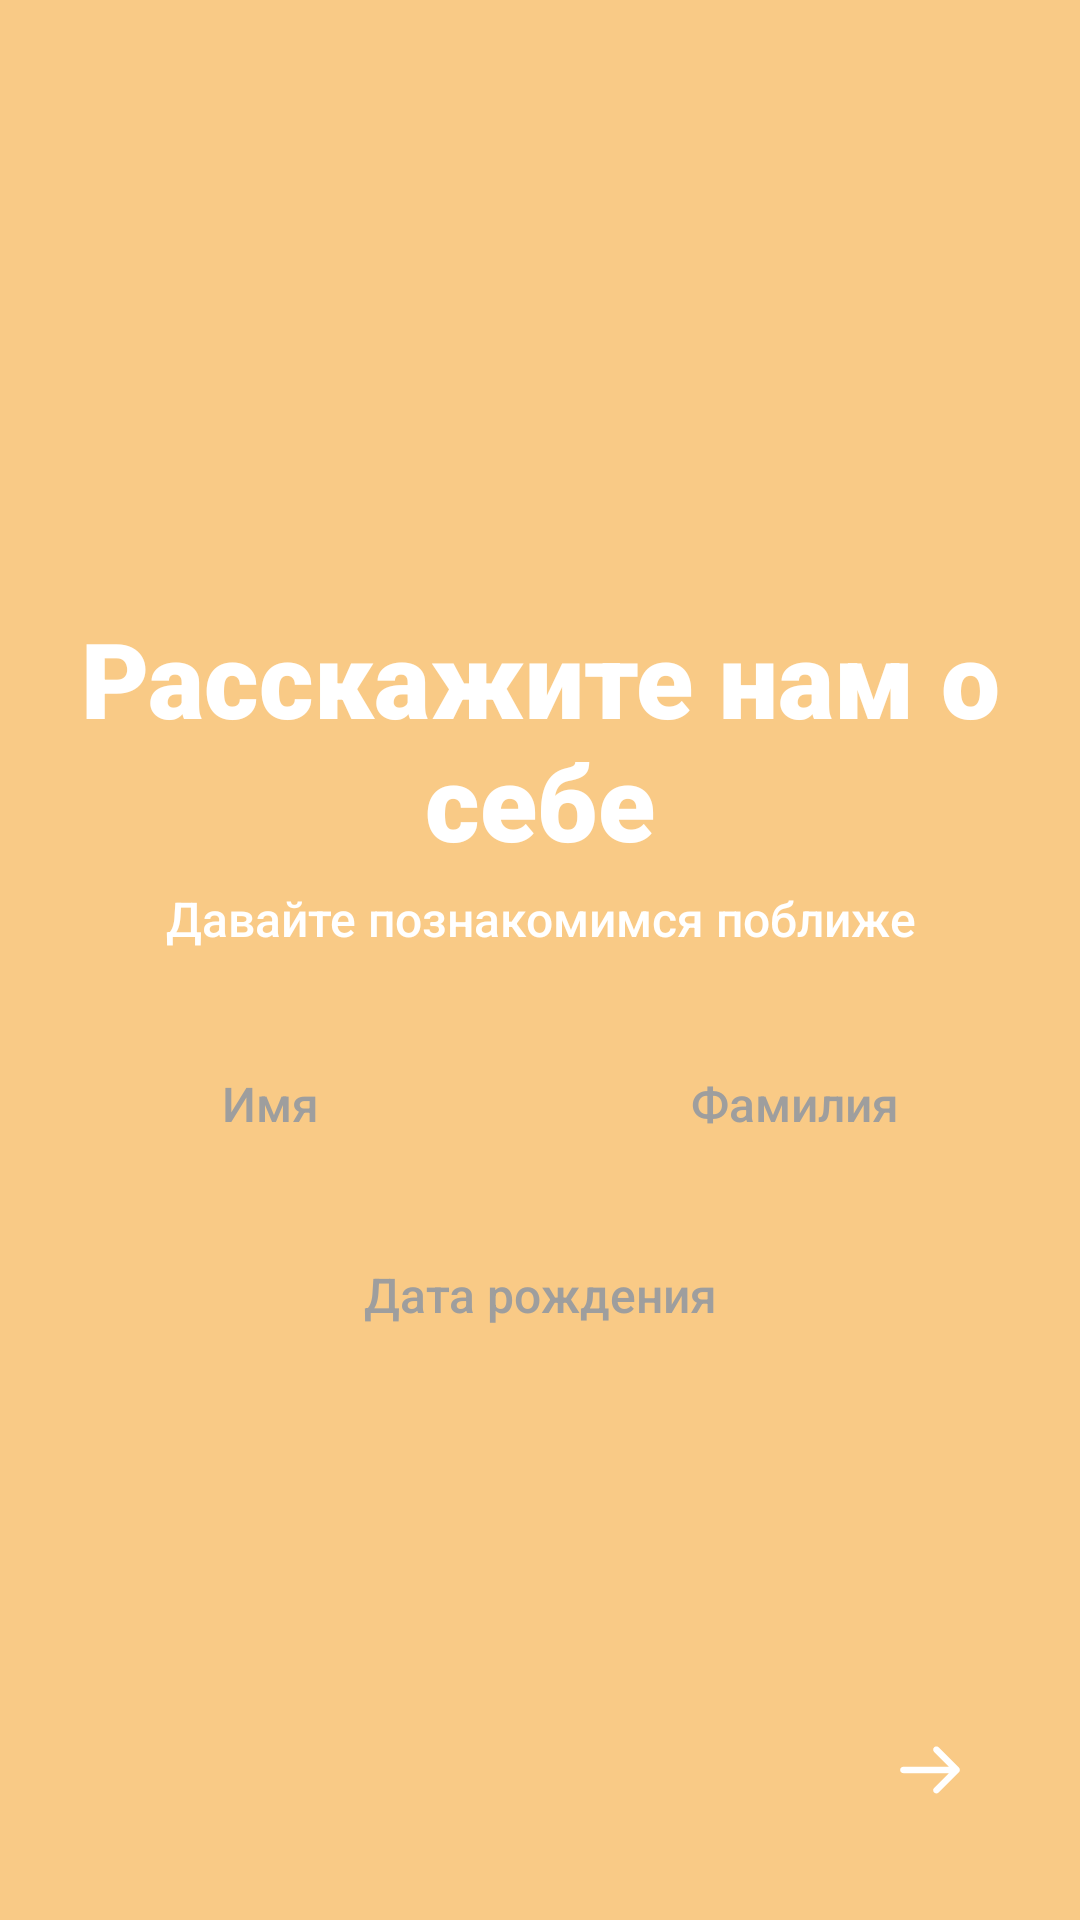

Where to tap for icons on this 1080*1920 app screen, as [x,y]:
arrow forward: [930,1770]
